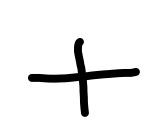plus: (29, 38, 140, 117)
